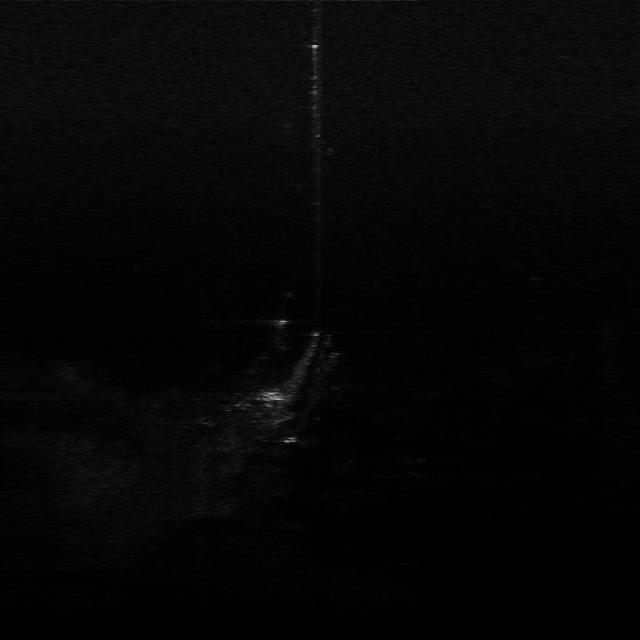rov: (253, 388, 288, 409)
